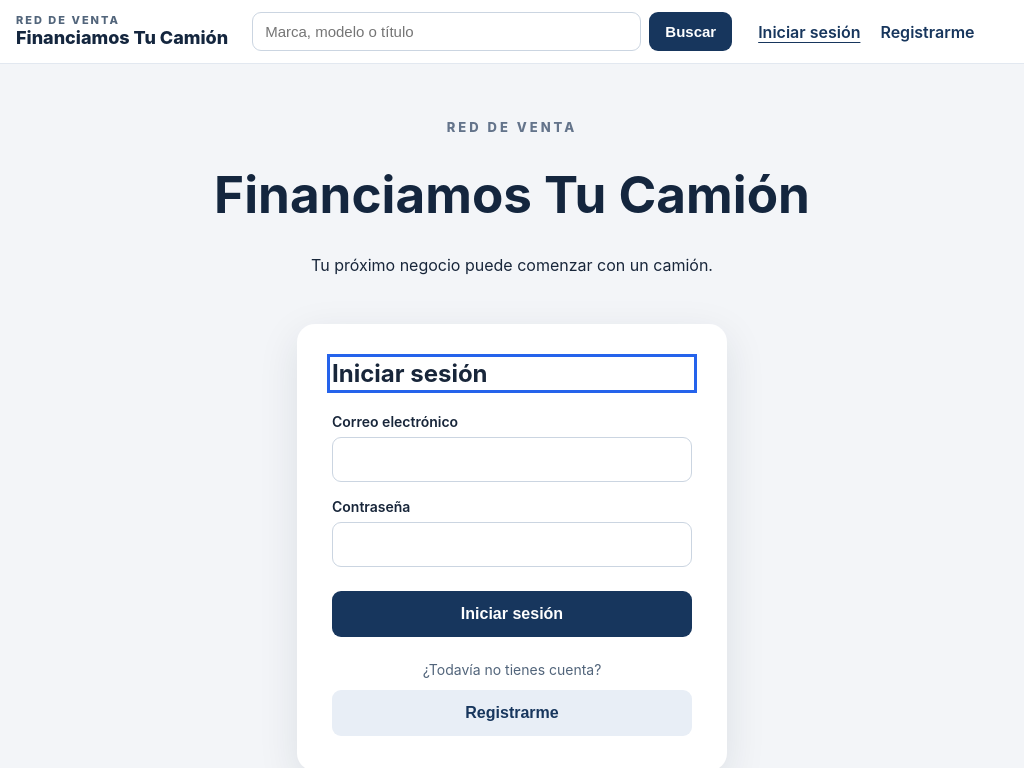
Test: Login › CA-059-18 un 423 muestra el mensaje de bloqueo, distinto del de credenciales
This screenshot has width=1024, height=768.
Step 1. Type "comprador.ficticio@ejemplo.test" into the field labelled "Correo electrónico" → (512, 460), box x1=332 y1=437 x2=692 y2=482
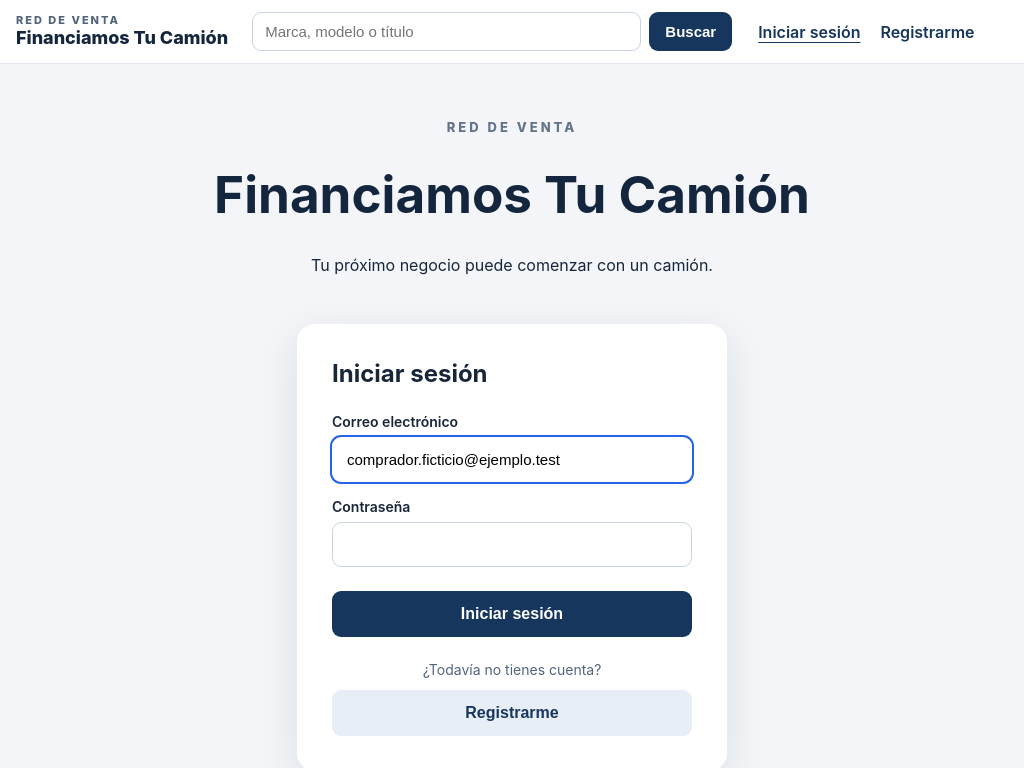
Step 2. Type "Camion2026" into the password field labelled "Contraseña" → (512, 545), box x1=332 y1=522 x2=692 y2=567
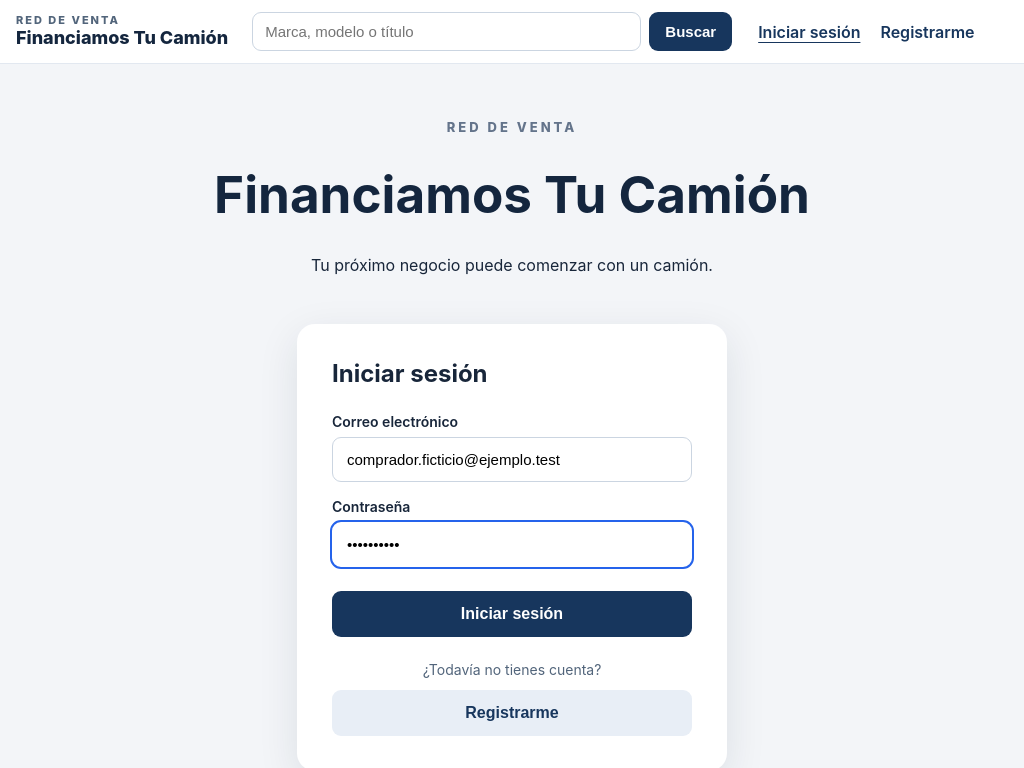
Step 3. Click the button "Iniciar sesión" → (512, 614), box x1=332 y1=591 x2=692 y2=637
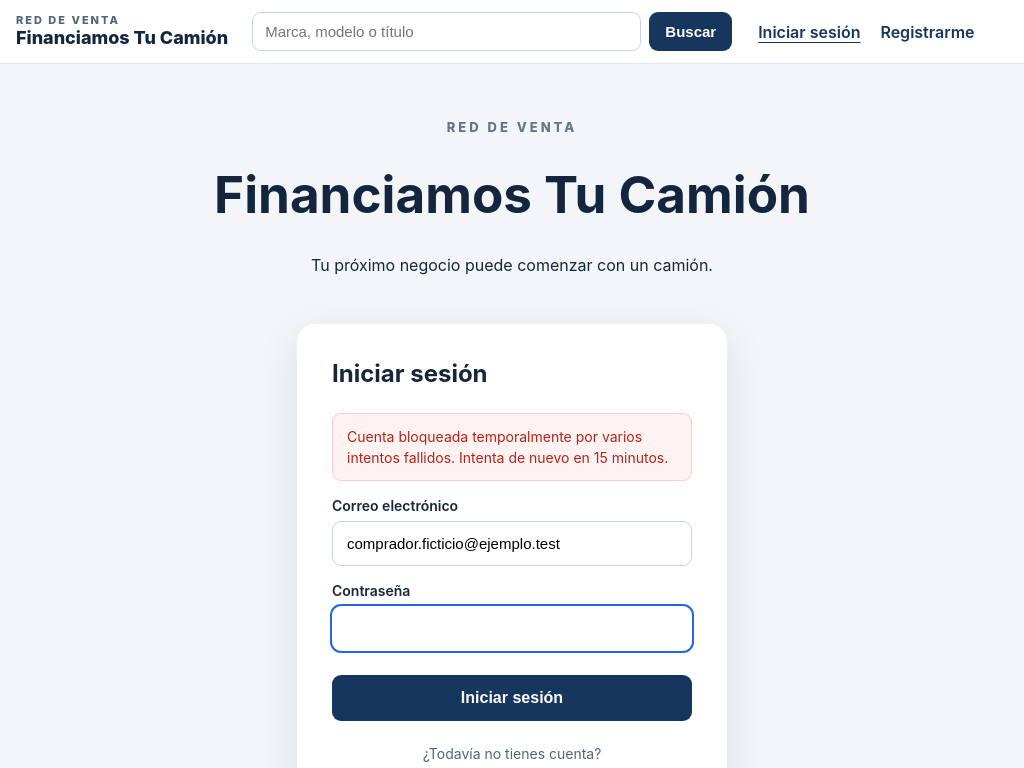
Check: the message does not show "Correo o contraseña incorrectos.", box x1=332 y1=413 x2=692 y2=481
Check: the message shows "Cuenta bloqueada temporalmente por varios intentos fallidos. Intenta de nuevo en 15 minutos.", box x1=347 y1=428 x2=668 y2=466
